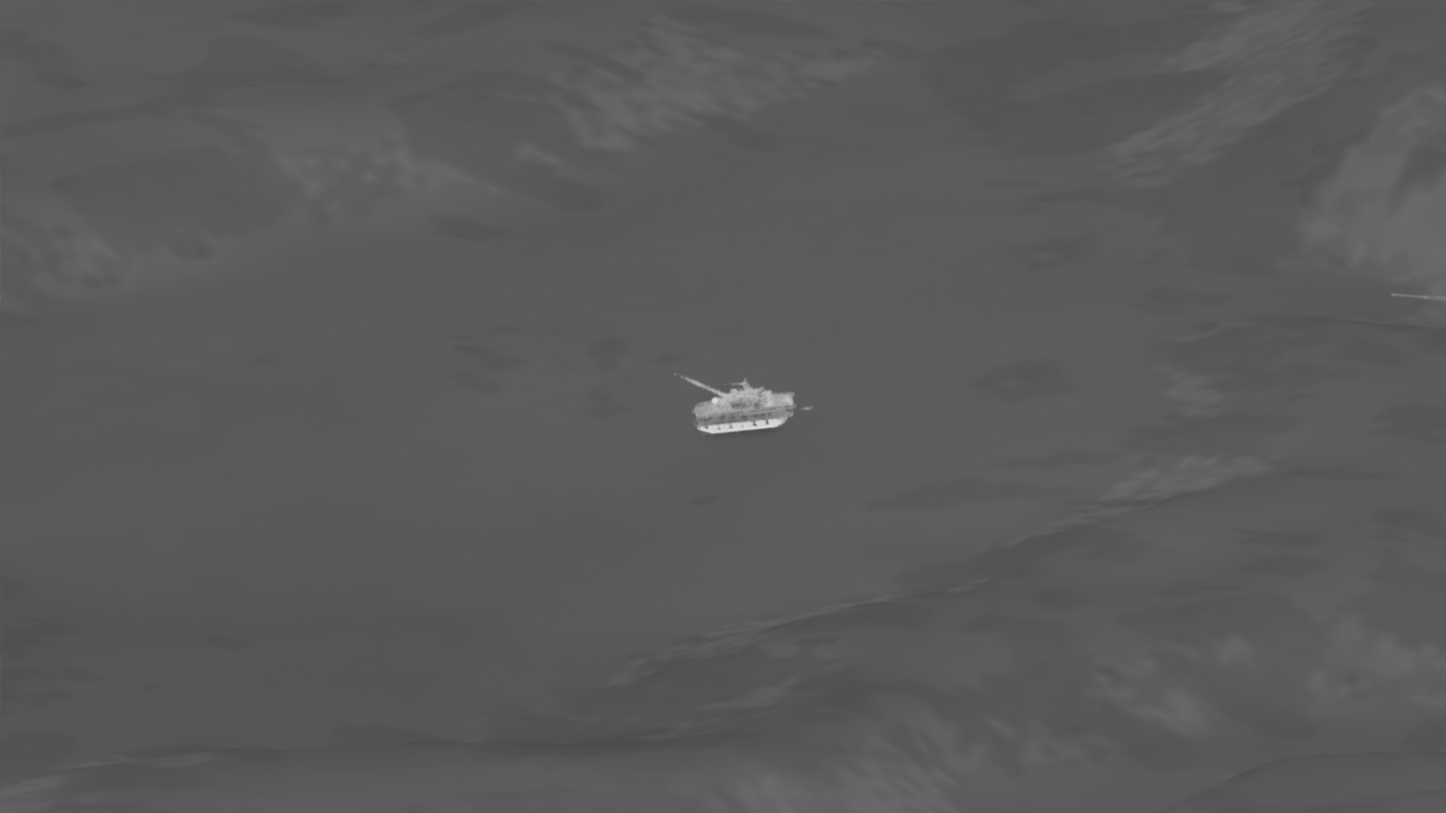t-80u: (672, 372, 795, 434)
